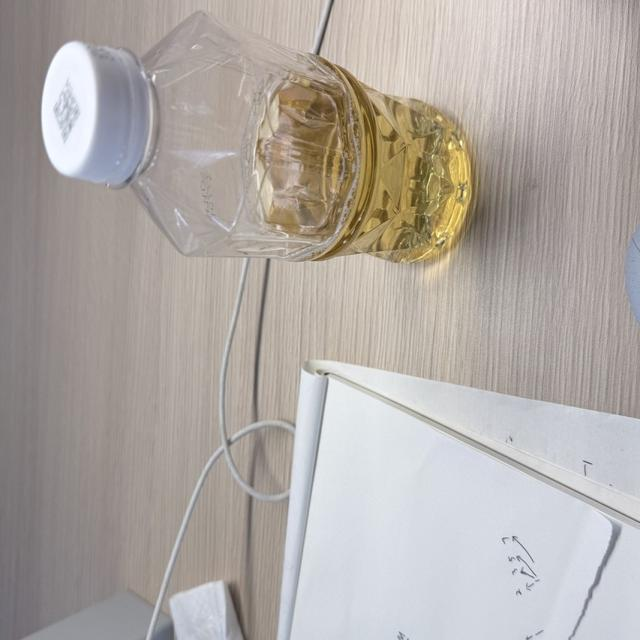medium: (41, 12, 470, 261)
